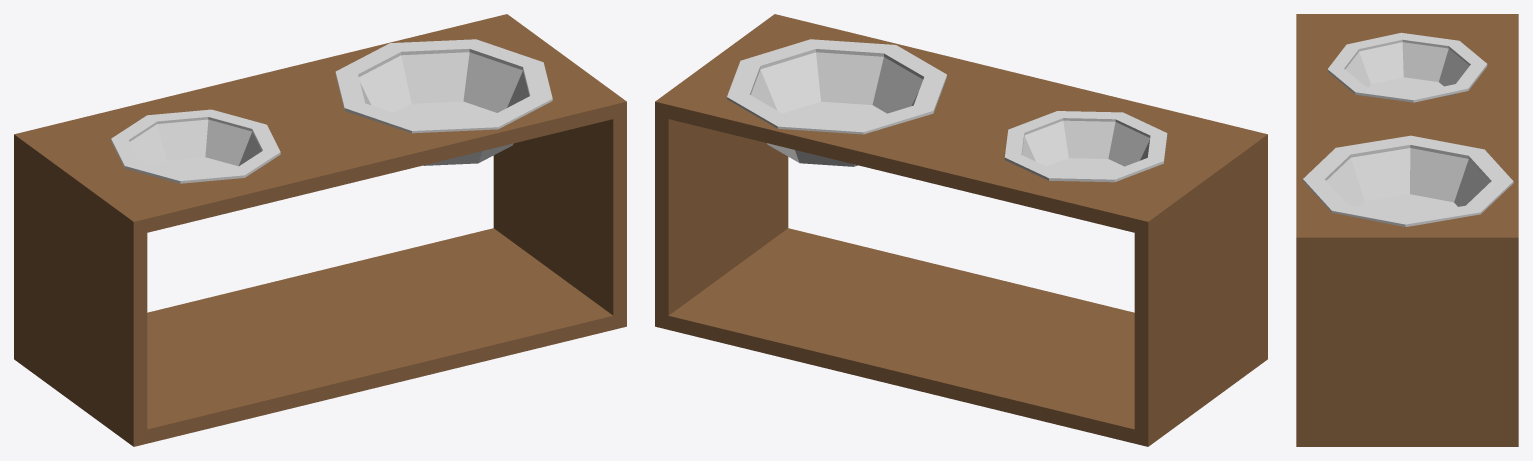
File: dogfeeder.gltf
3 views of the same model, side by side, from view 1: azimuth 30°, elevation 25°; view 2: azimuth 150°, elevation 25°; view 3: azimuth 270°, elevation 25° (orthographic). The views are drawn at different scales.
Visible parts, largest first — view 1: Cube; view 2: Cube; view 3: Cube.
Boxes of the visible parts, bbox=[...] form: Cube: bbox=[14, 14, 626, 446]; Cube: bbox=[655, 14, 1267, 446]; Cube: bbox=[1296, 14, 1518, 446].
Size of the model in its own units: 1 by 0.444 by 0.4224.
Materials: 1 (1 with a texture image).
